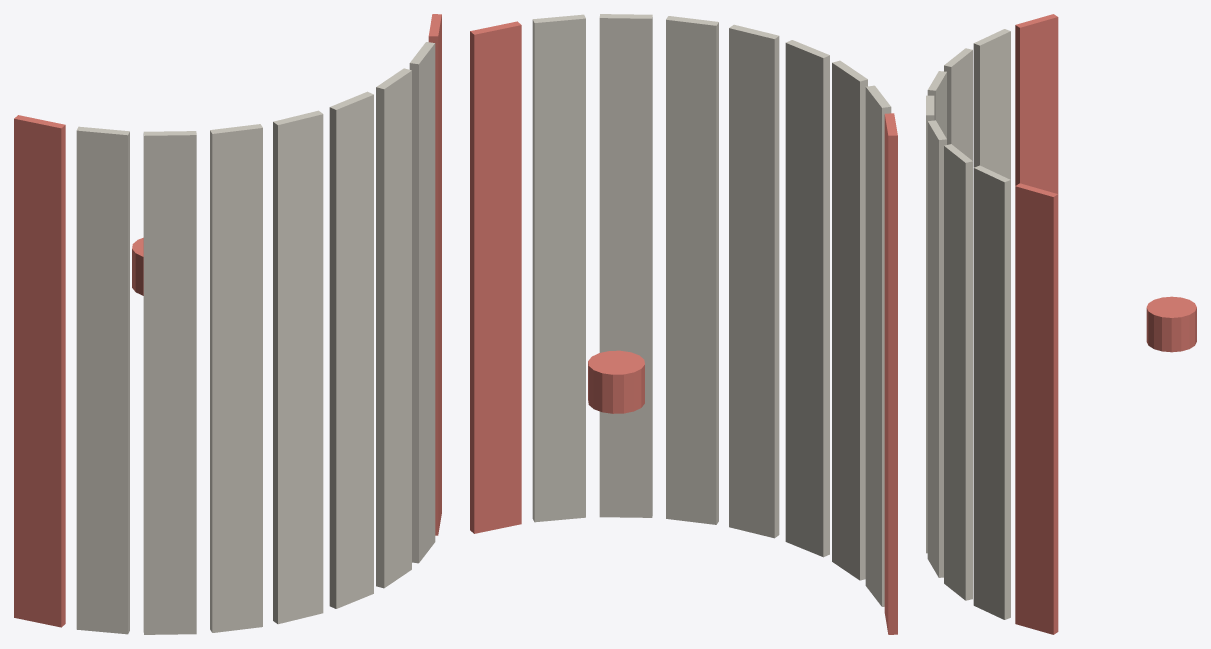
Rendered from item_43_folding_fan.glb.
3 renders of one model, left to right at view 1: azimuth 30°, elevation 25°; view 2: azimuth 150°, elevation 25°; view 3: azimuth 270°, elevation 25°, orthographic. The views are drawn at different scales.
Parts seen in each view (by area): view 1: I43_Blade2, I43_Blade1, I43_Blade3, I43_Blade0, I43_Blade4, I43_Blade5, I43_Blade6, I43_Blade7, I43_Blade8, I43_Rivet; view 2: I43_Blade7, I43_Blade5, I43_Blade8, I43_Blade4, I43_Blade6, I43_Blade3, I43_Blade2, I43_Blade1, I43_Blade0, I43_Rivet; view 3: I43_Blade8, I43_Blade7, I43_Blade6, I43_Blade5, I43_Blade0, I43_Blade1, I43_Rivet, I43_Blade2, I43_Blade4, I43_Blade3.
Part boxes in pixels (<box>): I43_Blade2: <box>143,131,196,634</box>; I43_Blade1: <box>76,126,129,634</box>; I43_Blade3: <box>210,124,262,632</box>; I43_Blade0: <box>14,115,65,627</box>; I43_Blade4: <box>273,110,323,624</box>; I43_Blade5: <box>329,91,373,608</box>; I43_Blade6: <box>376,68,411,588</box>; I43_Blade7: <box>409,42,435,563</box>; I43_Blade8: <box>428,14,441,535</box>; I43_Rivet: <box>132,237,143,295</box>; I43_Blade7: <box>532,14,585,522</box>; I43_Blade5: <box>666,16,718,524</box>; I43_Blade8: <box>470,21,521,533</box>; I43_Blade4: <box>729,24,779,538</box>; I43_Blade6: <box>599,14,652,517</box>; I43_Blade3: <box>785,40,829,557</box>; I43_Blade2: <box>832,60,867,580</box>; I43_Blade1: <box>865,85,891,606</box>; I43_Blade0: <box>884,113,897,634</box>; I43_Rivet: <box>588,350,644,413</box>; I43_Blade8: <box>1015,183,1058,634</box>; I43_Blade7: <box>973,165,1010,619</box>; I43_Blade6: <box>944,144,972,600</box>; I43_Blade5: <box>927,120,946,577</box>; I43_Blade0: <box>1015,14,1058,193</box>; I43_Blade1: <box>973,29,1010,179</box>; I43_Rivet: <box>1146,296,1196,352</box>; I43_Blade2: <box>944,48,972,160</box>; I43_Blade4: <box>926,95,934,553</box>; I43_Blade3: <box>927,71,946,138</box>.
Size of the model in its own units: 0.1031 by 0.115 by 0.0645.
